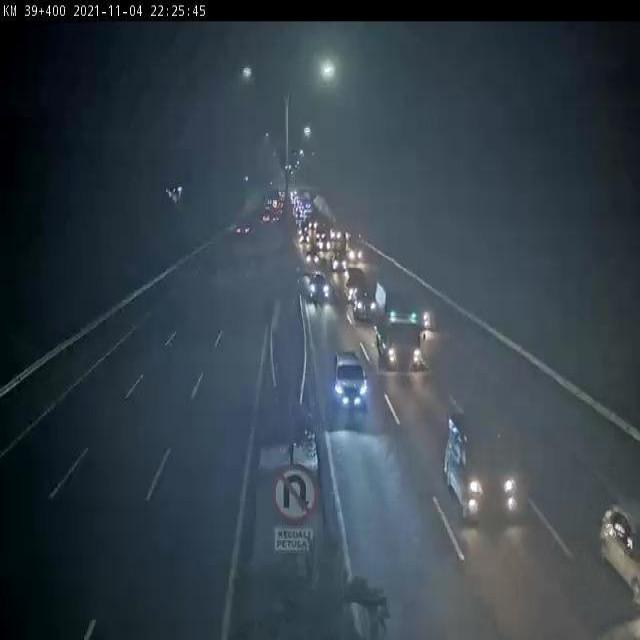car: (446, 412, 522, 523), (598, 486, 640, 598), (327, 368, 388, 443), (342, 266, 368, 302), (354, 287, 381, 320), (308, 266, 331, 302), (412, 292, 432, 329), (331, 252, 351, 271), (346, 244, 364, 260), (305, 249, 322, 264)
truck-m-: (376, 280, 424, 369)
